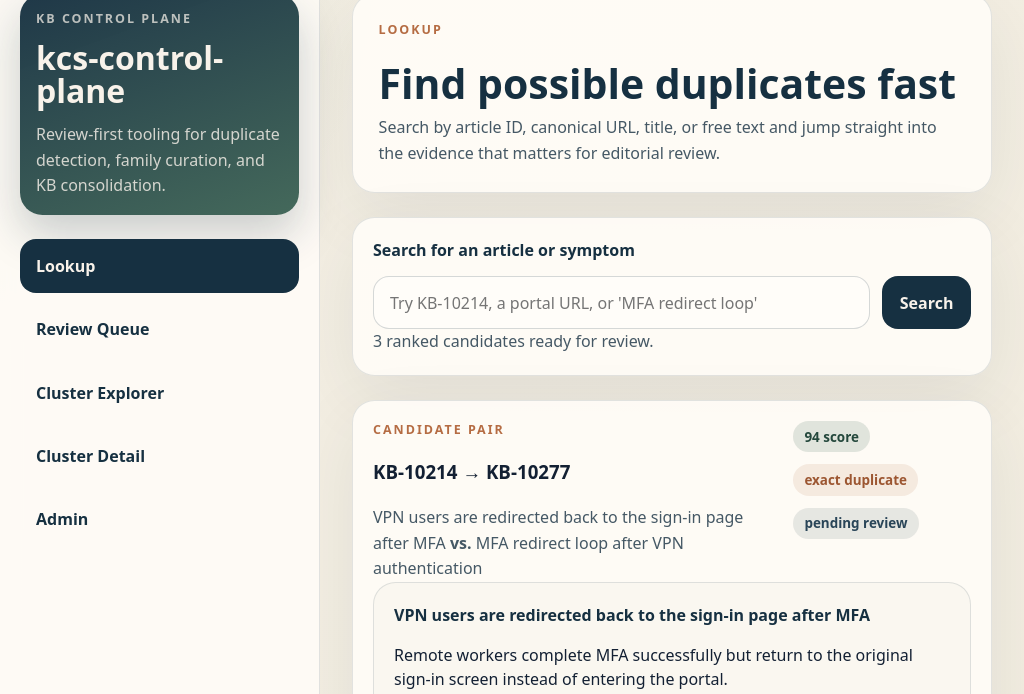
Test: workflow-first frontend › runs admin actions and prepends a job log entry
Click the button "Admin" at [62, 519], box [20,492,299,546]
(page scrolled)
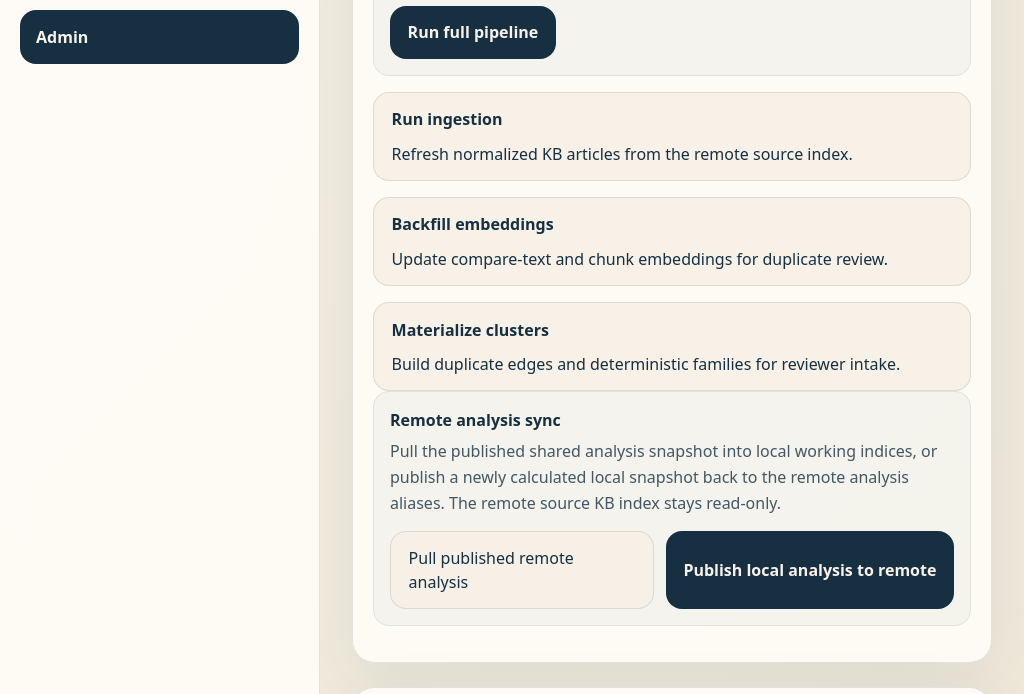
Click the button "Materialize clusters" at [470, 330], box [373,302,971,391]
(page scrolled)
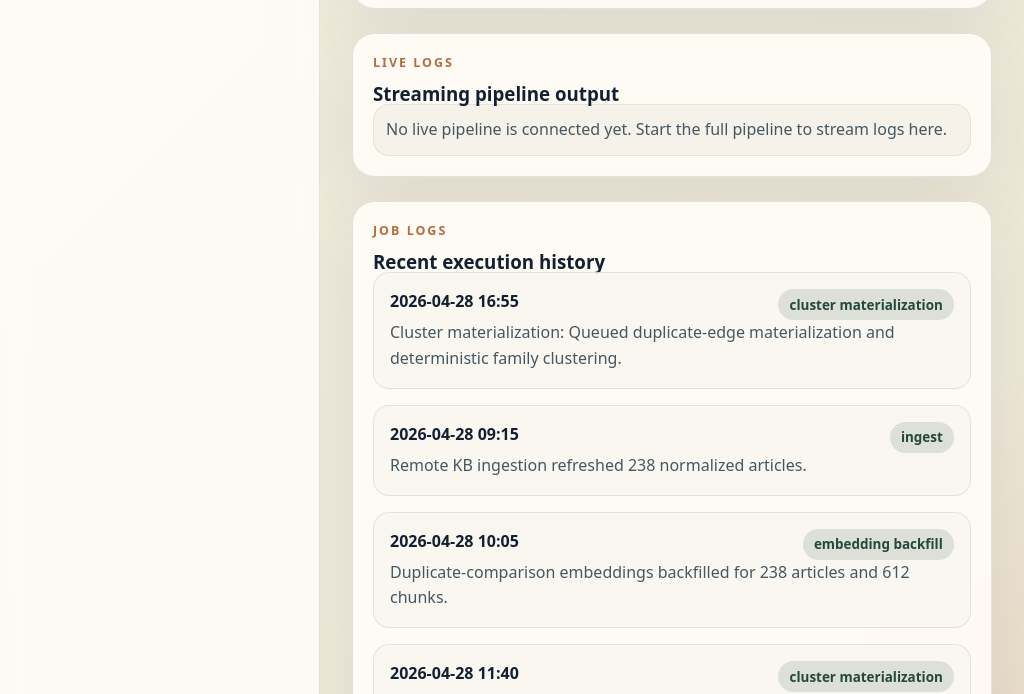
Expected: the text "Cluster materialization:" is shown, [390,321,895,369]
